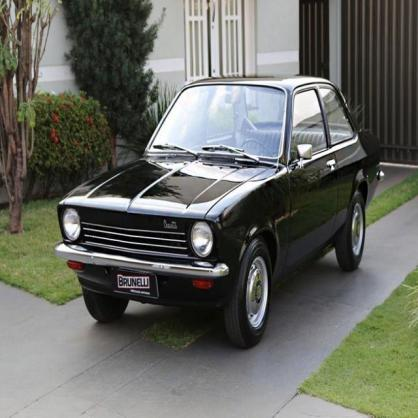car: (58, 74, 389, 350)
